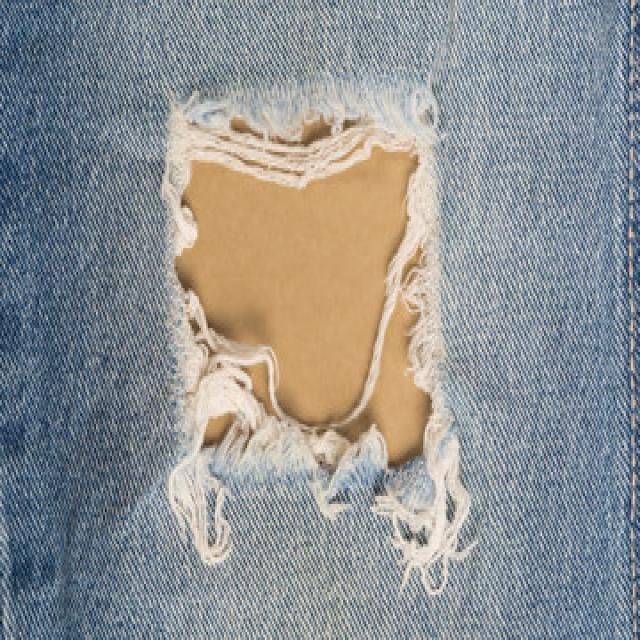Hole: (164, 81, 469, 562)
